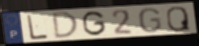2: (111, 9, 134, 36)
D: (52, 11, 80, 40)
G: (82, 10, 107, 37), (138, 7, 163, 34)
L: (26, 14, 50, 41)
Q: (165, 6, 192, 33)
